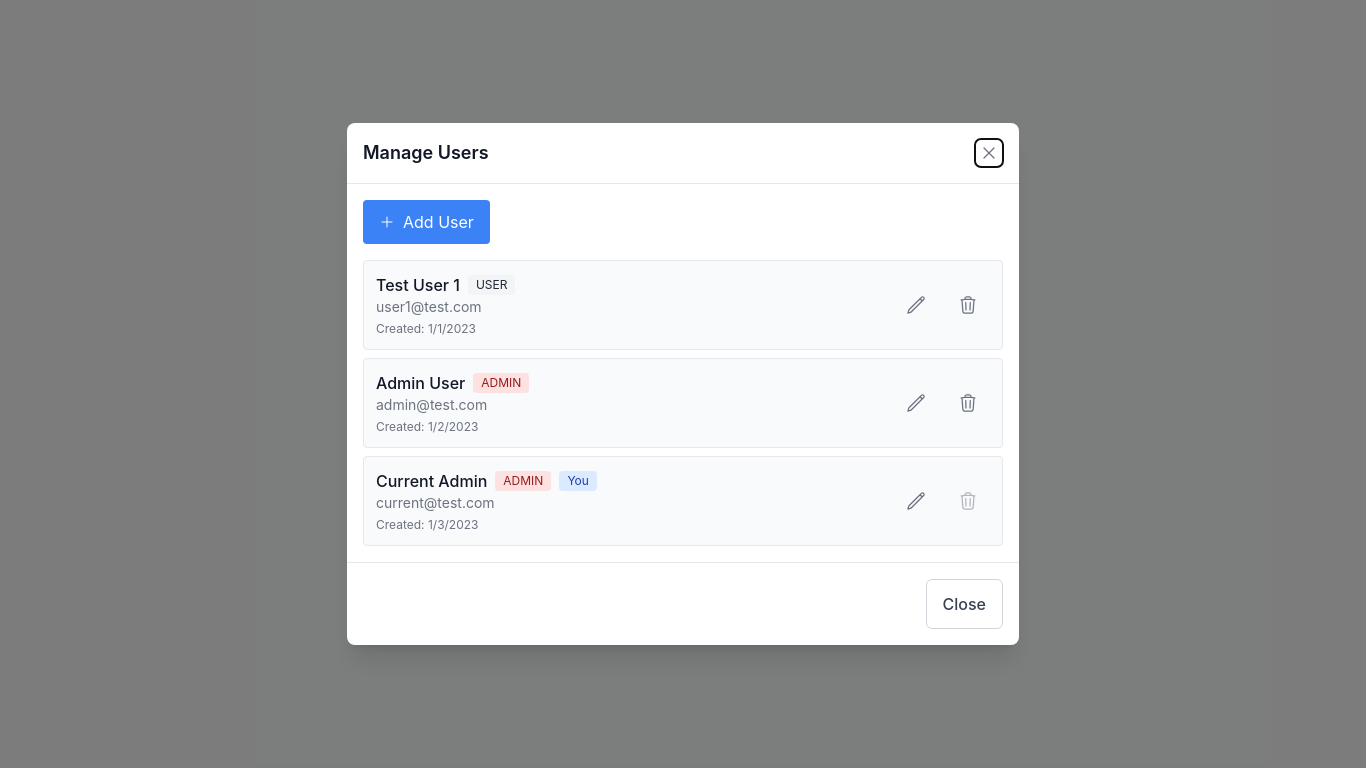
Test case: UserManagementModal › user creation › shows create form when Add User is clicked
The image size is (1366, 768).
Click the button "Add User": [426, 222] box [363,200,490,244]
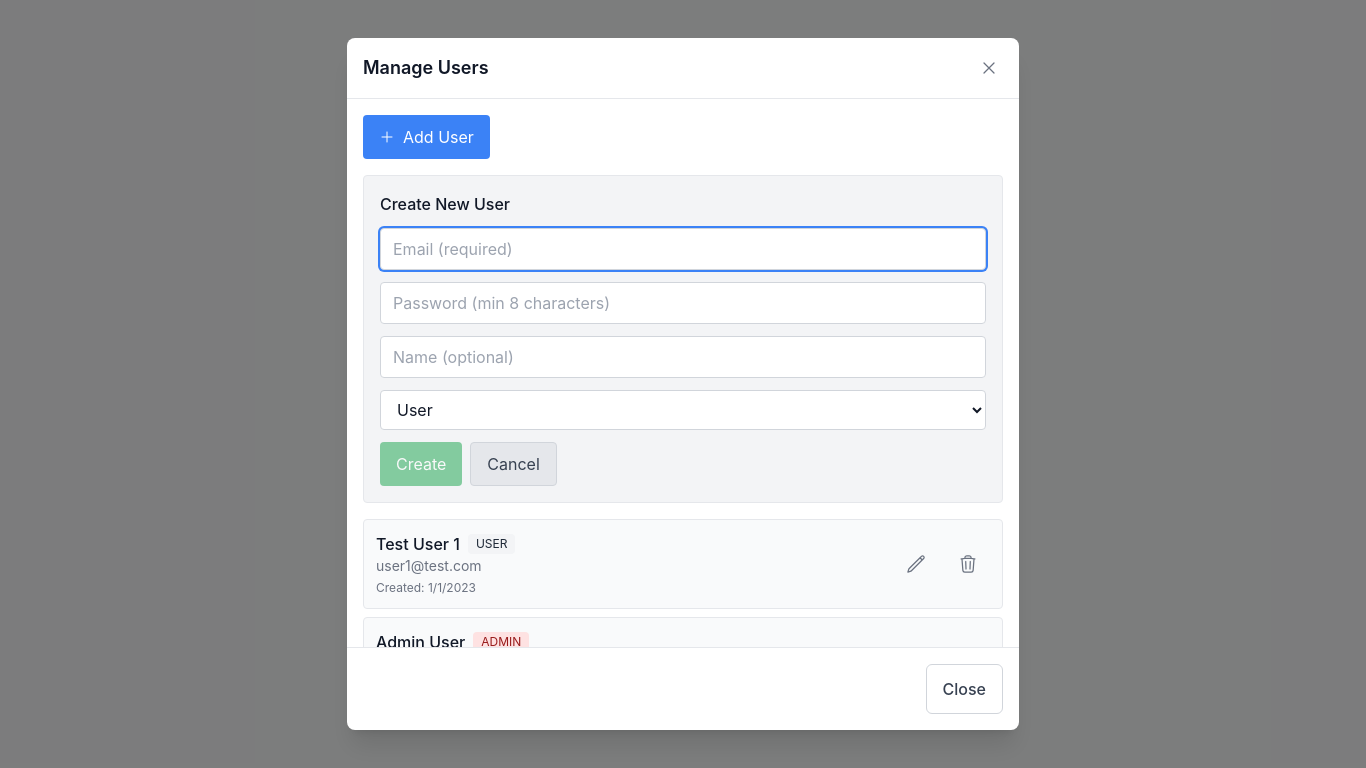
expect the field with placeholder "Email (required)" is shown: met, box [380,228,986,270]
expect the password field with placeholder "Password (min 8 characters)" is shown: met, box [380,282,986,324]
expect the field with placeholder "Name (optional)" is shown: met, box [380,336,986,378]
